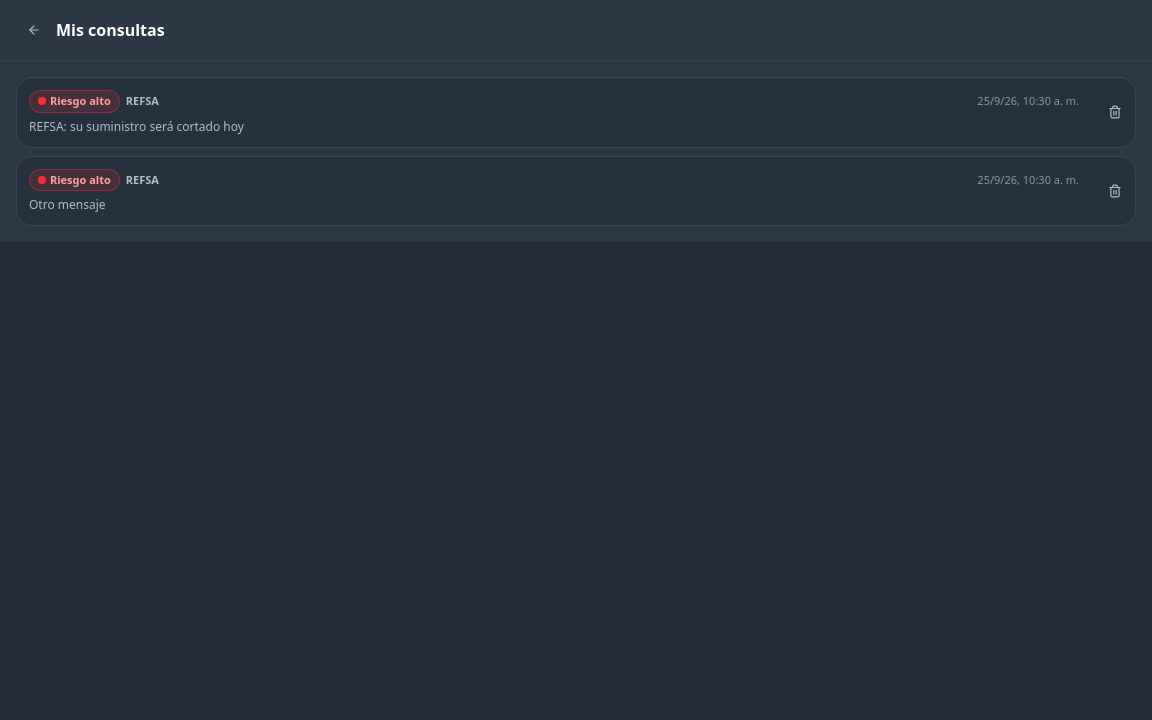
Test: ChatHistoryView › borra una consulta después de confirmar
Click the 1st button named "Borrar la consulta del" at {"x": 1115, "y": 112}, box [1095,78,1135,146]
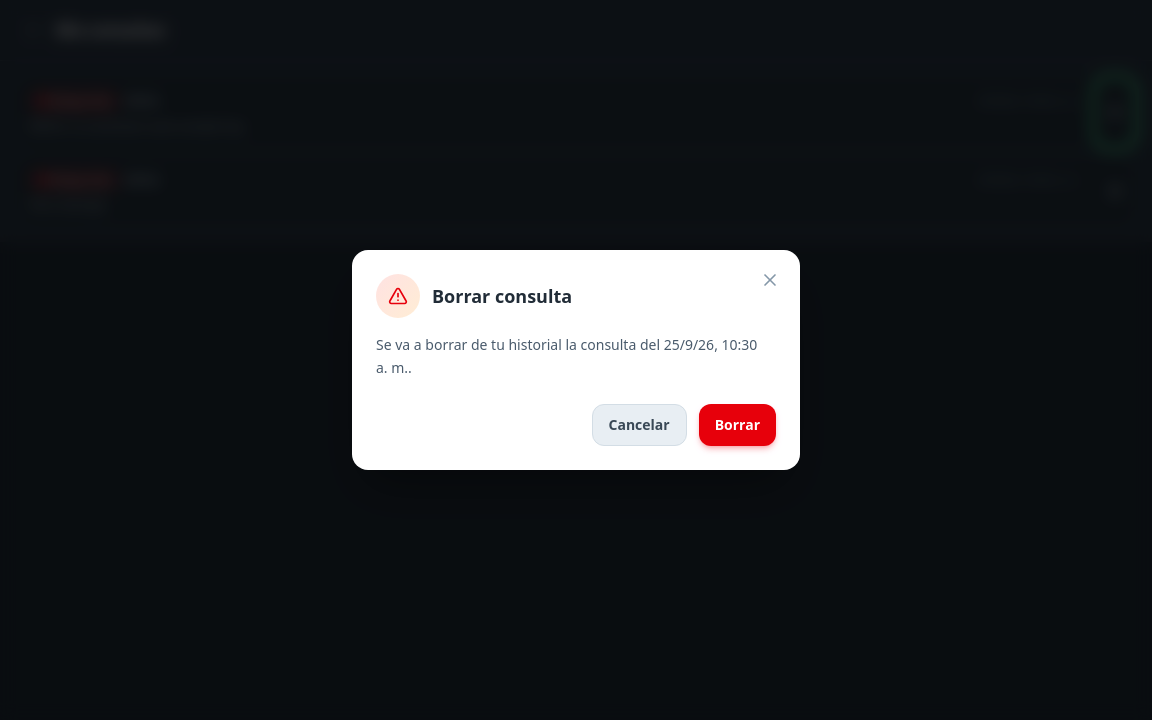
Click the button "Borrar" at {"x": 737, "y": 425}, box [699,404,776,446]
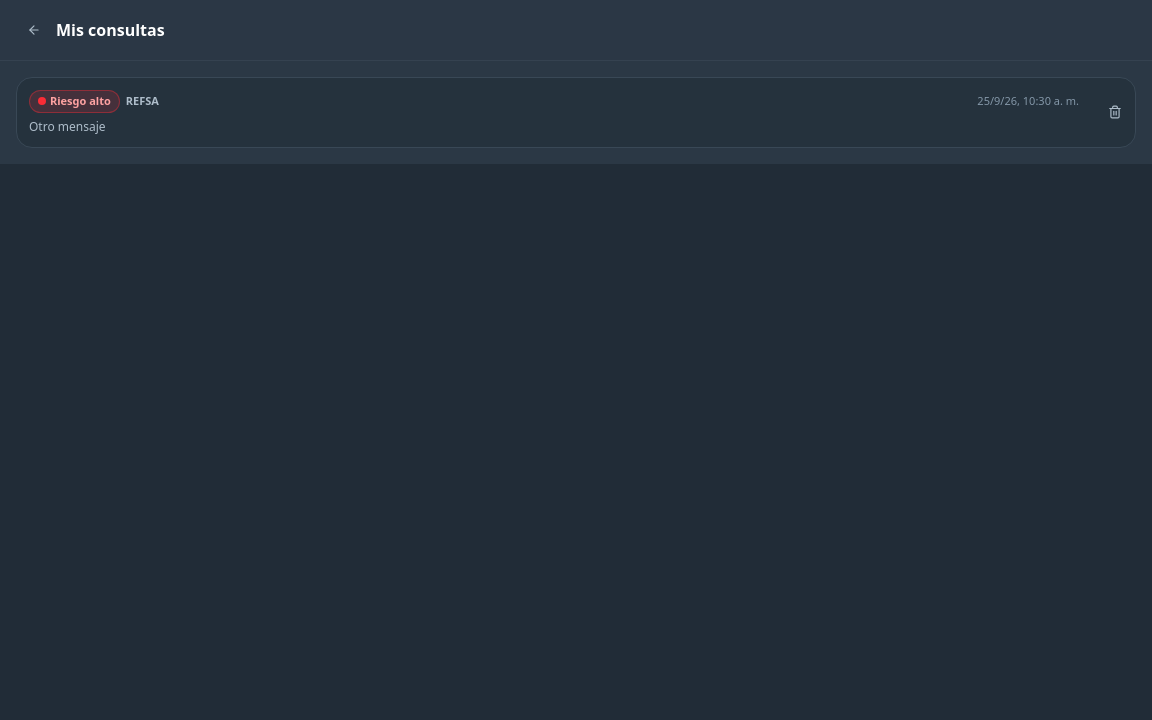
Check: the text "Otro mensaje" is shown, box [29,118,106,134]
Check: the button "REFSA: su suministro será cortado hoy" is gone
